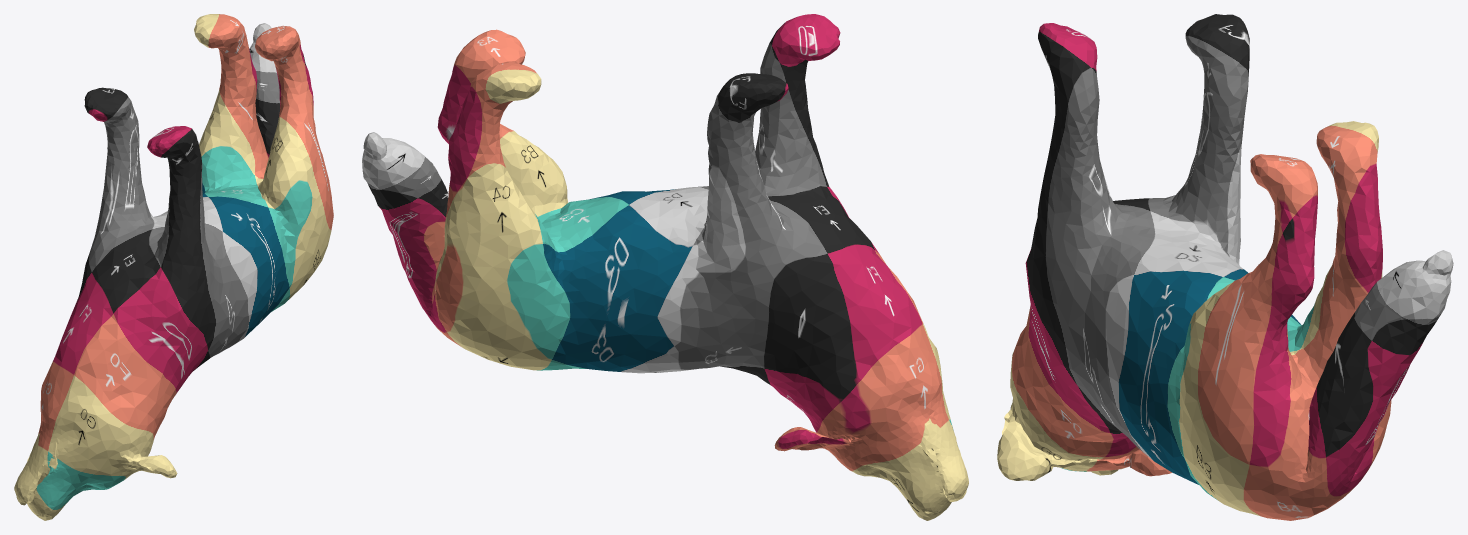
The model's file is fox_02-wolf_03.obj.
3 views of the same model, side by side, from view 1: azimuth 30°, elevation 25°; view 2: azimuth 150°, elevation 25°; view 3: azimuth 270°, elevation 25° (orthographic). The views are drawn at different scales.
Parts seen in each view (by area): view 1: fox_02-wolf_03_export; view 2: fox_02-wolf_03_export; view 3: fox_02-wolf_03_export.
Part boxes in pixels (<box>): fox_02-wolf_03_export: <box>14,14,333,520</box>; fox_02-wolf_03_export: <box>362,14,968,520</box>; fox_02-wolf_03_export: <box>997,14,1453,520</box>.
Bounding box in the file's own units: 0.7472 × 0.7014 × 0.551.
